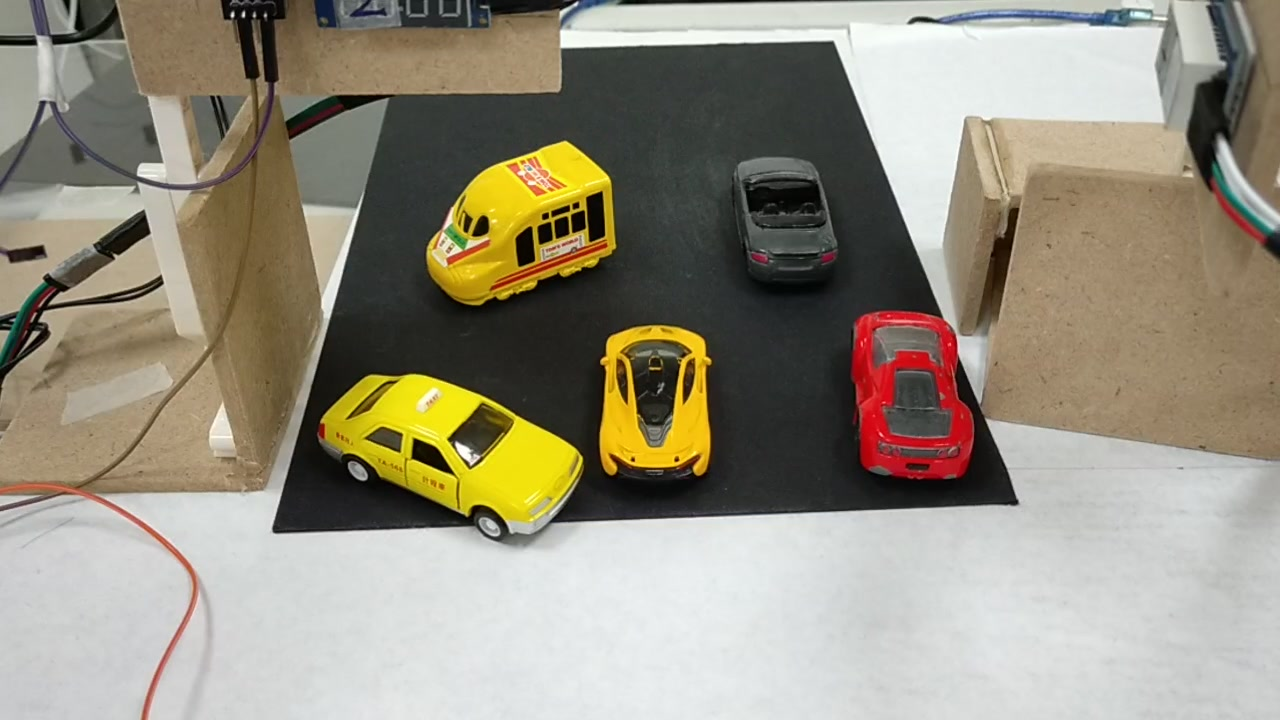car: (318, 378, 578, 542), (857, 308, 968, 479), (602, 316, 712, 479), (737, 159, 838, 271)
